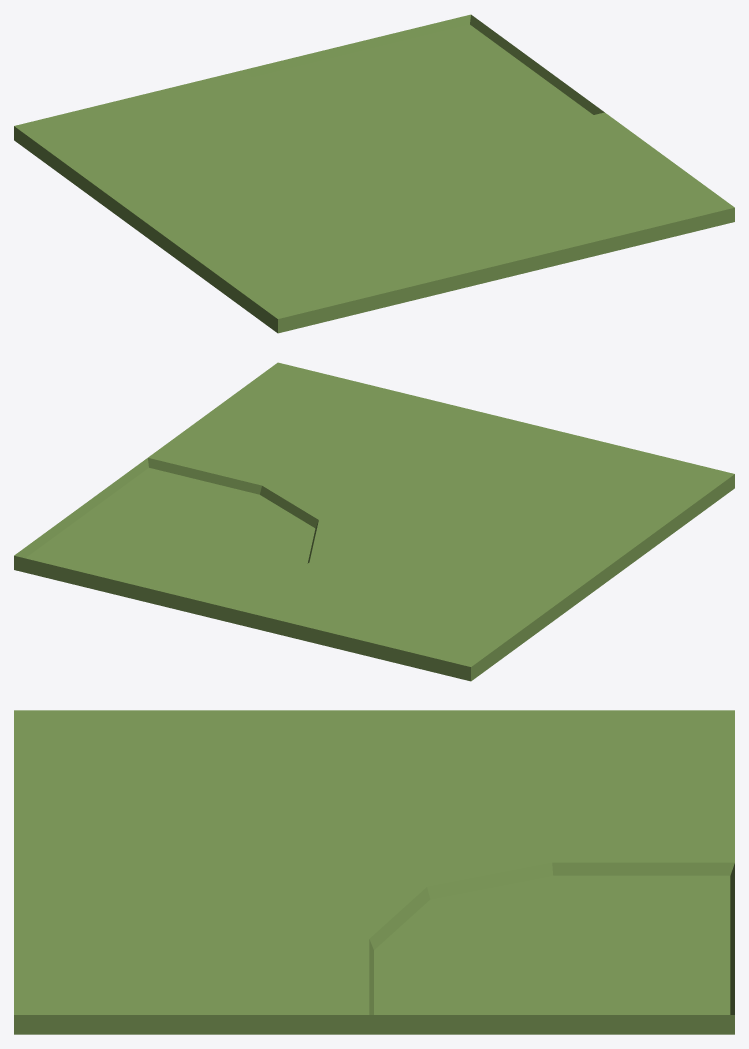
File: ground.fbx
3 views of the same model, one above another, from view 1: azimuth 30°, elevation 25°; view 2: azimuth 150°, elevation 25°; view 3: azimuth 270°, elevation 25° (orthographic). The views are drawn at different scales.
Visible parts, largest first — view 1: Cube; view 2: Cube; view 3: Cube.
Part boxes in pixels (bbox=[...]): Cube: bbox=[14, 14, 734, 333]; Cube: bbox=[14, 362, 734, 681]; Cube: bbox=[14, 710, 734, 1034].
Bounding box in the file's own units: 1137 × 34.05 × 1137.
